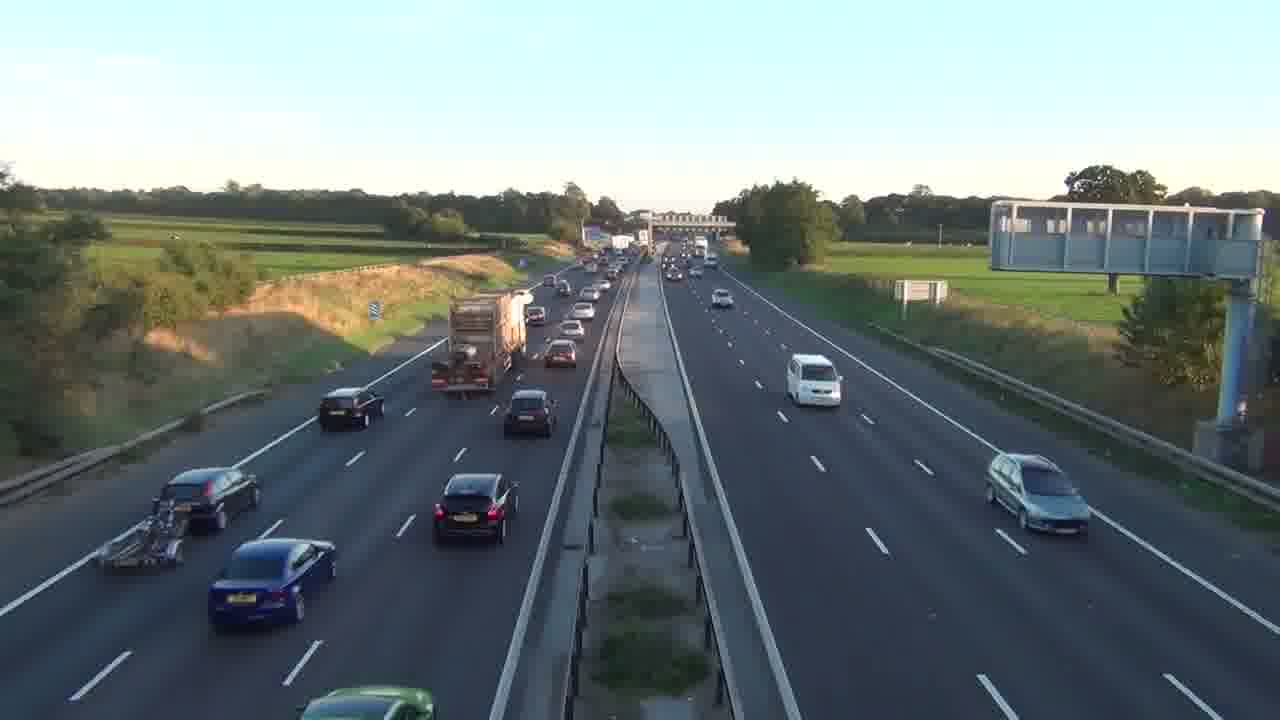car: (207, 535, 337, 631), (984, 451, 1091, 535), (157, 466, 260, 534), (432, 472, 520, 545), (299, 685, 435, 719), (504, 388, 557, 437), (544, 339, 578, 369), (711, 288, 734, 308)
truck: (443, 294, 513, 400)
